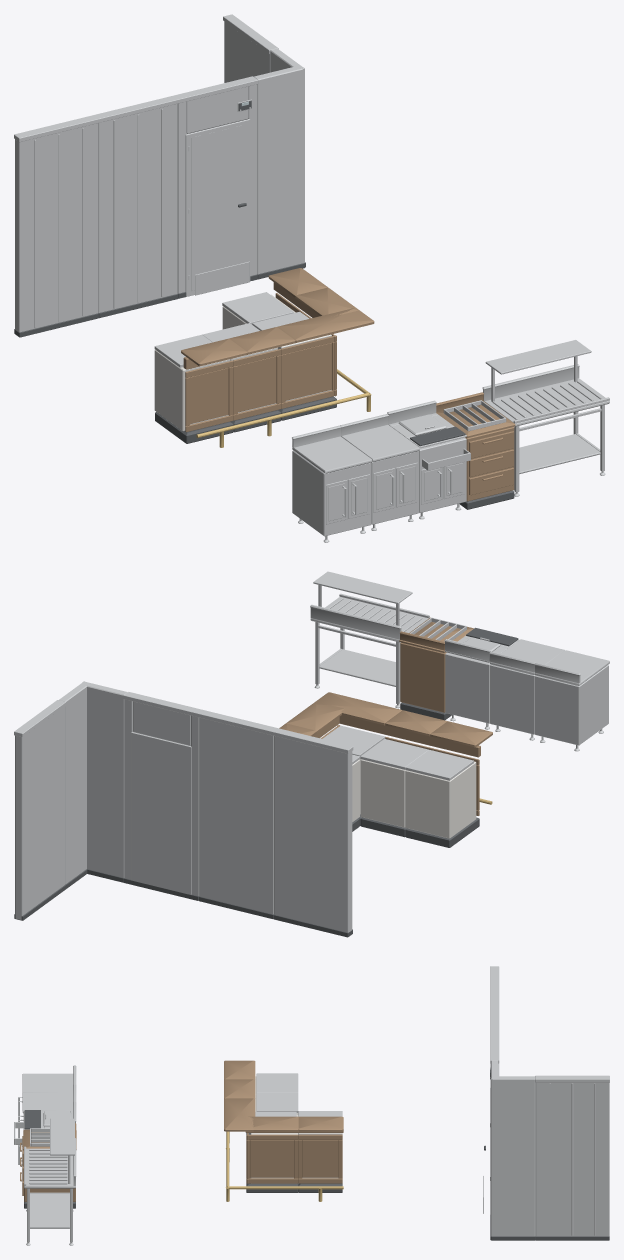
Rendered from restaurant-kitchen-and-dining-connector-cases-55834f09__16544.glb.
3 renders of one model, top to bottom at view 1: azimuth 30°, elevation 25°; view 2: azimuth 150°, elevation 25°; view 3: azimuth 270°, elevation 25°, orthographic. The views are drawn at different scales.
Visible parts, largest first — view 1: 009-walk-in-panel/0, 010-walk-in-panel/0, 012-walk-in-corner/0, 004-dishwash-tabling-clean/0, 011-walk-in-door-module/0, 011-walk-in-door-module/cold-room-door/metal, 007-bar-counter-corner/2, 000-service-counter/0, 005-bar-counter-module/2, 006-bar-counter-module/2, 001-service-counter/0, 002-drinks-station/0 (+17 smaller); view 2: 009-walk-in-panel/0, 011-walk-in-door-module/0, 010-walk-in-panel/0, 012-walk-in-corner/0, 013-walk-in-panel/0, 004-dishwash-tabling-clean/0, 000-service-counter/0, 001-service-counter/0, 005-bar-counter-module/1, 003-service-station-drawers/1, 002-drinks-station/0, 007-bar-counter-corner/2 (+8 smaller); view 3: 013-walk-in-panel/0, 012-walk-in-corner/0, 004-dishwash-tabling-clean/0, 007-bar-counter-corner/2, 008-bar-counter-module/2, 000-service-counter/0, 001-service-counter/0, 006-bar-counter-module/3, 005-bar-counter-module/3, 006-bar-counter-module/2, 005-bar-counter-module/2, 003-service-station-drawers/1 (+3 smaller).
Part boxes in pixels (x1,y1,x2,y2): 009-walk-in-panel/0: (14,115,99,332); 010-walk-in-panel/0: (94,95,178,312); 012-walk-in-corner/0: (254,48,304,274); 004-dishwash-tabling-clean/0: (482,340,609,496); 011-walk-in-door-module/0: (174,76,258,296); 011-walk-in-door-module/cold-room-door/metal: (191,124,245,290); 007-bar-counter-corner/2: (277,287,374,408); 000-service-counter/0: (292,425,372,542); 005-bar-counter-module/2: (181,338,247,432); 006-bar-counter-module/2: (229,327,295,420); 001-service-counter/0: (340,414,419,530); 002-drinks-station/0: (387,400,470,519); 009-walk-in-panel/0: (273,728,353,932); 011-walk-in-door-module/0: (123,692,202,895); 010-walk-in-panel/0: (198,710,277,914); 012-walk-in-corner/0: (59,681,127,884); 013-walk-in-panel/0: (14,700,66,919); 004-dishwash-tabling-clean/0: (310,571,429,708); 000-service-counter/0: (534,650,609,751); 001-service-counter/0: (489,639,564,740); 005-bar-counter-module/1: (405,761,476,838); 003-service-station-drawers/1: (399,617,473,712); 002-drinks-station/0: (444,635,519,729); 007-bar-counter-corner/2: (286,692,402,739); 013-walk-in-panel/0: (535,1075,609,1236); 012-walk-in-corner/0: (491,1060,535,1236); 004-dishwash-tabling-clean/0: (24,1118,76,1245); 007-bar-counter-corner/2: (224,1098,298,1183); 008-bar-counter-module/2: (298,1116,343,1183); 000-service-counter/0: (22,1065,76,1092); 001-service-counter/0: (22,1084,76,1113); 006-bar-counter-module/3: (256,1092,298,1113); 005-bar-counter-module/3: (256,1073,298,1092); 006-bar-counter-module/2: (224,1079,255,1098); 005-bar-counter-module/2: (224,1060,255,1079); 003-service-station-drawers/1: (23,1123,76,1201).
Size of the model in its own units: 3.81 by 2.4 by 8.04.
